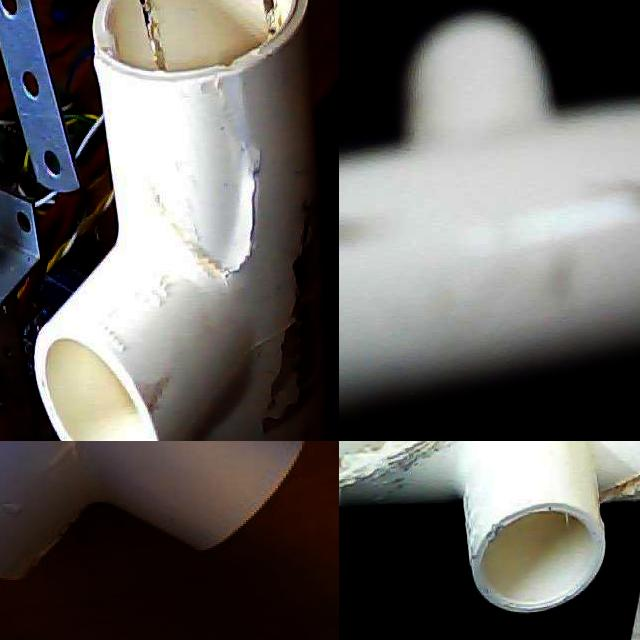Defective: (257, 192, 330, 441), (212, 111, 271, 296), (262, 262, 320, 431), (339, 441, 453, 515), (121, 0, 182, 84), (613, 155, 640, 235), (250, 0, 286, 43), (143, 0, 164, 69), (250, 170, 258, 242), (260, 0, 276, 33), (220, 183, 233, 200)
T Joint: (339, 29, 640, 441), (339, 441, 640, 617)
